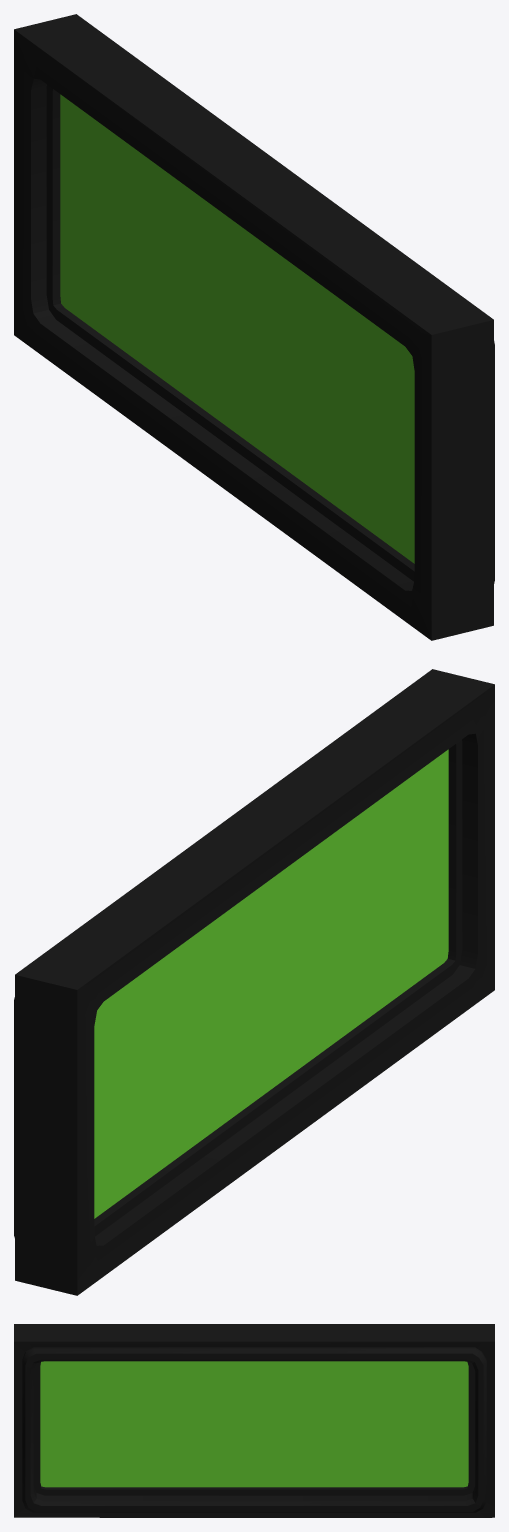
Rendered from RoomWindow.fbx.
3 views of the same model, one above another, from view 1: azimuth 30°, elevation 25°; view 2: azimuth 150°, elevation 25°; view 3: azimuth 270°, elevation 25° (orthographic). The views are drawn at different scales.
Visible parts, largest first — view 1: Box031, Window006; view 2: Box031, Window006; view 3: Window006, Box031.
Part boxes in pixels (left/top/right/bottom): Box031: left=14, top=14, right=494, bottom=640; Window006: left=60, top=94, right=414, bottom=563; Box031: left=14, top=669, right=494, bottom=1295; Window006: left=94, top=749, right=448, bottom=1218; Window006: left=40, top=1361, right=468, bottom=1487; Box031: left=14, top=1324, right=494, bottom=1517.
Size of the model in its own units: 14 by 137 by 55.52.
